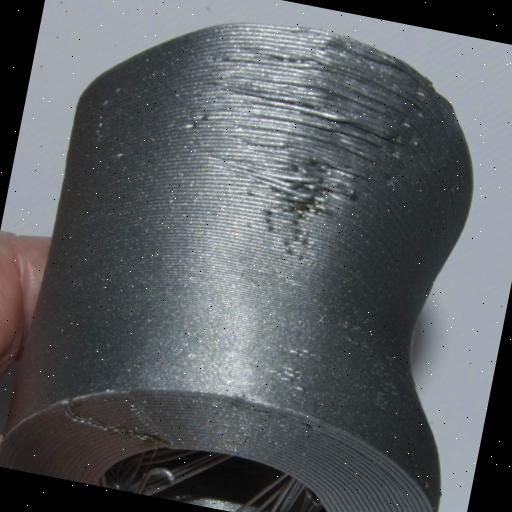cracks: (165, 8, 466, 298)
